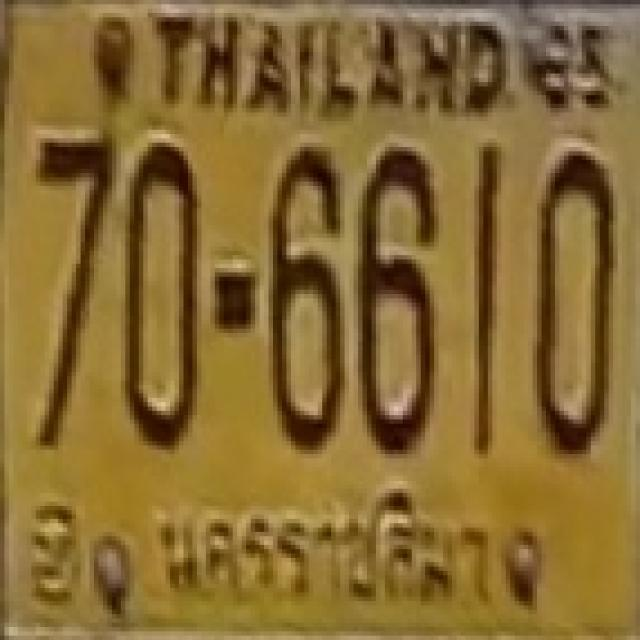0: (528, 141, 618, 469), (120, 129, 207, 454)
1: (472, 143, 499, 458)
6: (256, 128, 353, 460), (359, 125, 442, 454)
7: (24, 134, 112, 444)
NMA: (147, 485, 507, 623)
